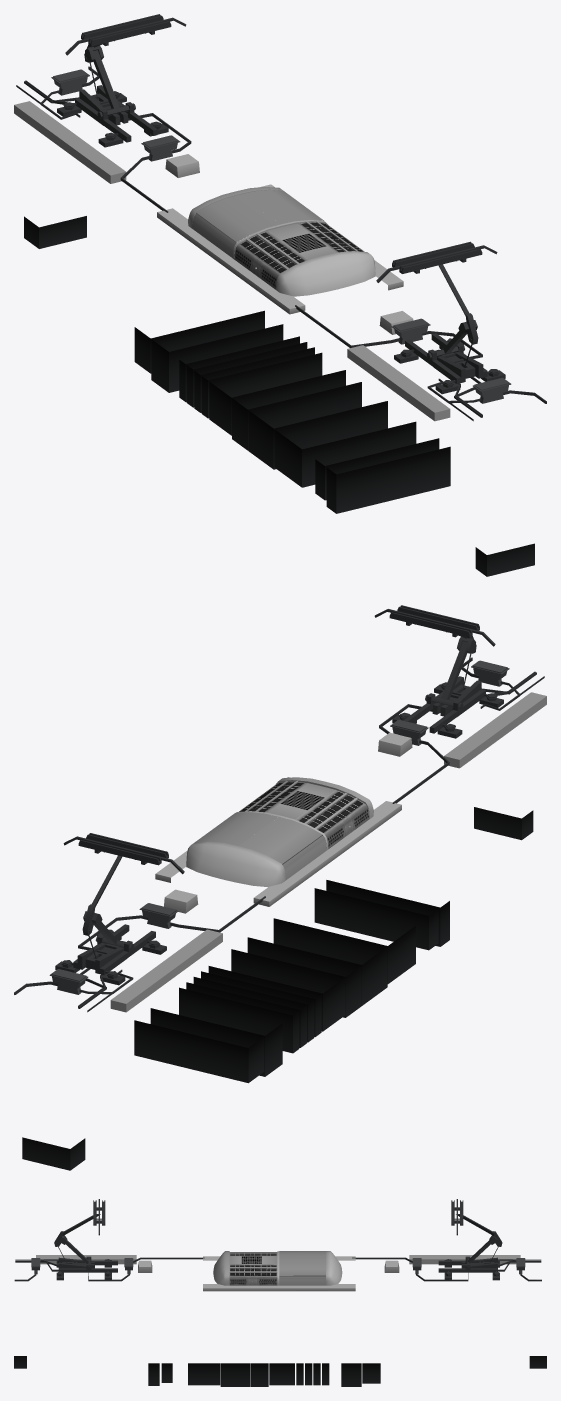
Rendered from KQ_PANTA.glb.
3 views of the same model, one above another, from view 1: azimuth 30°, elevation 25°; view 2: azimuth 150°, elevation 25°; view 3: azimuth 270°, elevation 25° (orthographic). The views are drawn at different scales.
Parts seen in each view (by area): view 1: obj15; view 2: obj15; view 3: obj15.
Boxes of the visible parts, x1,y1,x2,y2 form: obj15: [14, 14, 546, 576]; obj15: [14, 605, 546, 1170]; obj15: [14, 1199, 546, 1386].
Size of the model in its own units: 5.49 by 12.17 by 36.76.
7 materials, 7 textured.
